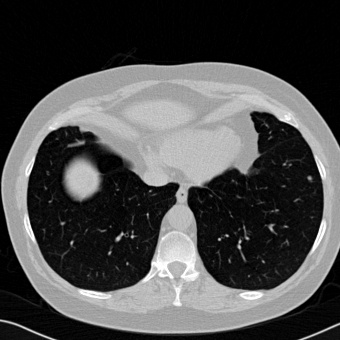PN: (307, 176, 311, 180)
